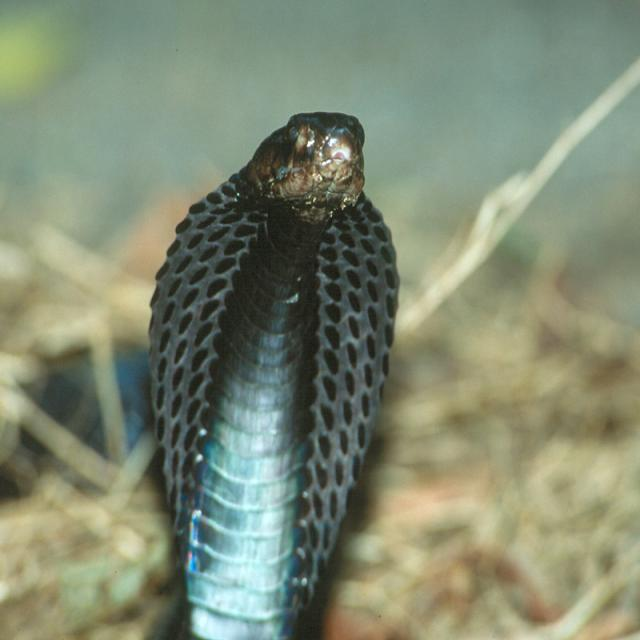Venomous: (132, 98, 417, 542)
